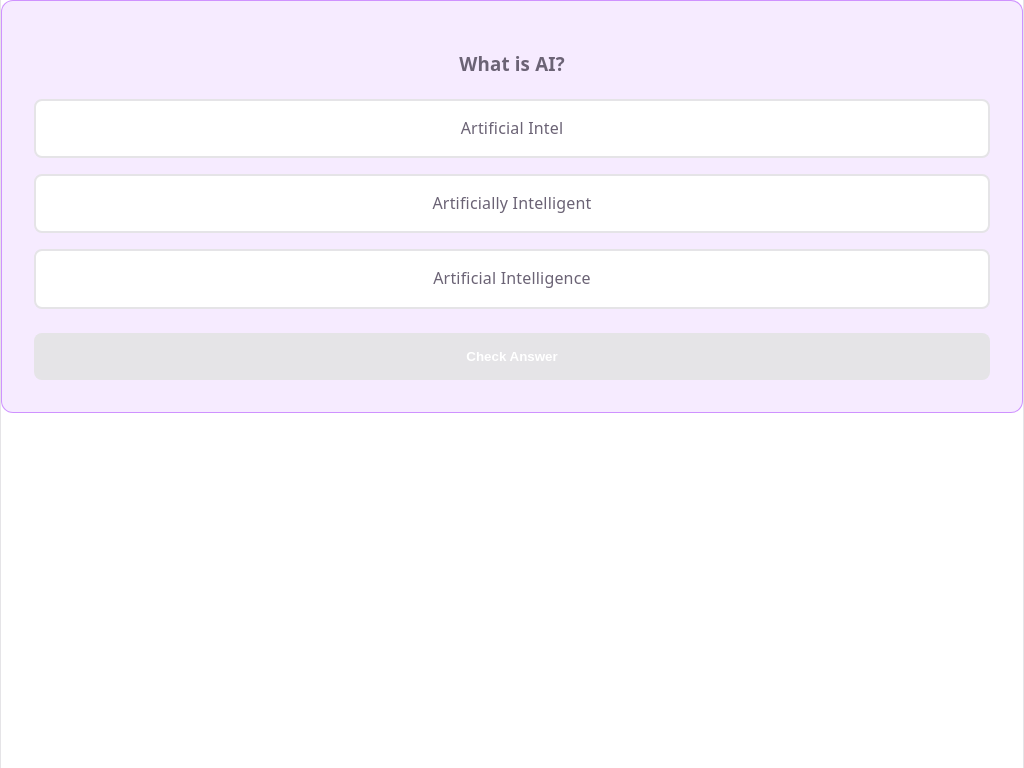
Quiz › should show feedback and explanation on correct answer
The width and height of the screenshot is (1024, 768).
Click the text "Artificial Intelligence". click: (512, 279)
box: top-left (34, 249), bottom-right (990, 308)
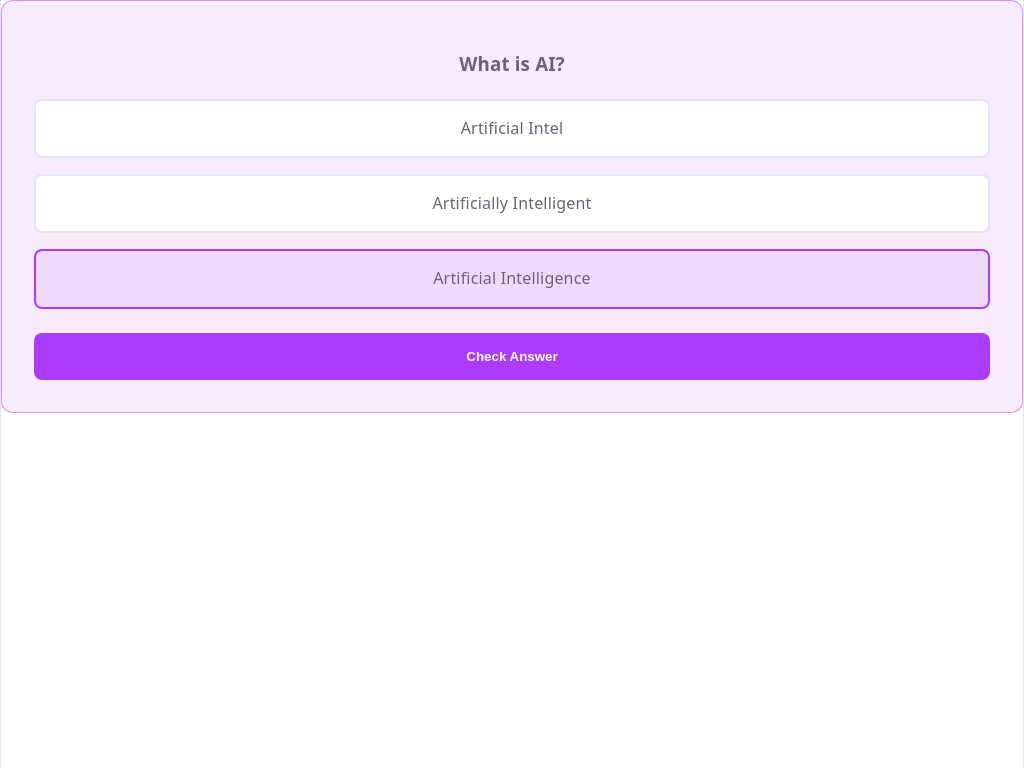
Click the button "Check Answer". click: (512, 356)
box: top-left (34, 332), bottom-right (990, 380)
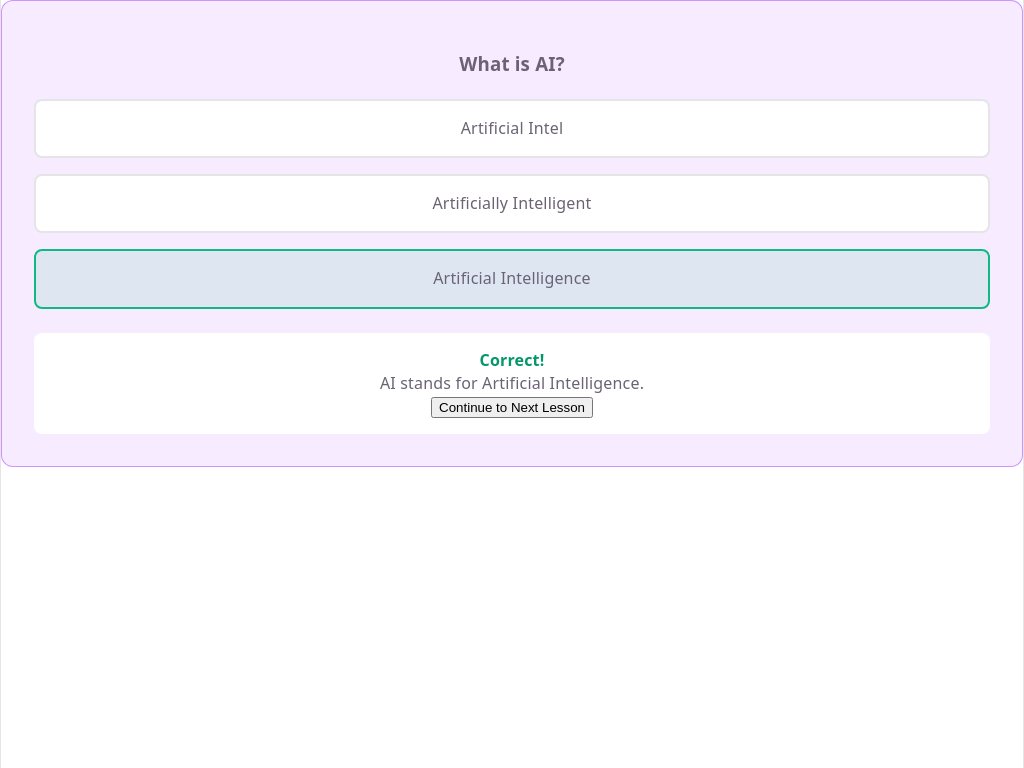
Result: the text "Correct!" is shown at top-left (480, 348), bottom-right (544, 370)
Result: the text "AI stands for Artificial Intelligence." is shown at top-left (380, 372), bottom-right (644, 394)
